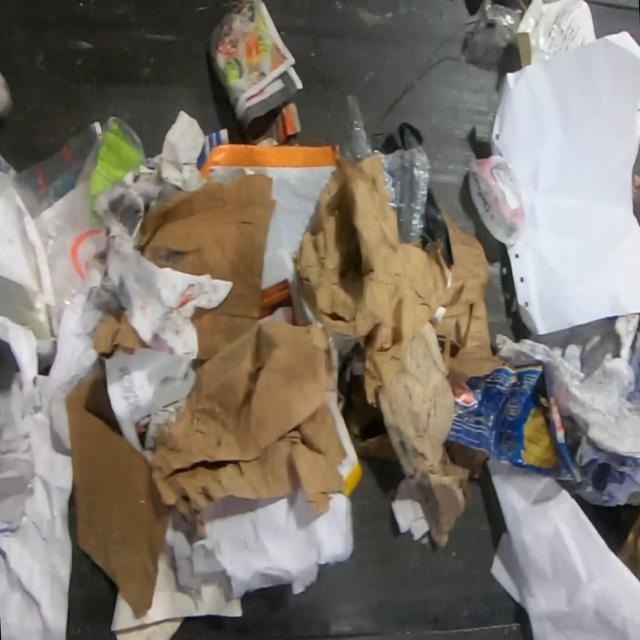cardboard: (152, 320, 348, 541), (66, 374, 175, 620), (138, 174, 278, 361), (447, 363, 580, 483), (436, 201, 503, 394), (83, 300, 161, 364)
rigid_plastic: (12, 117, 146, 296)
soft_plastic: (342, 94, 433, 244), (468, 154, 527, 246), (423, 184, 455, 266), (381, 116, 423, 156)
